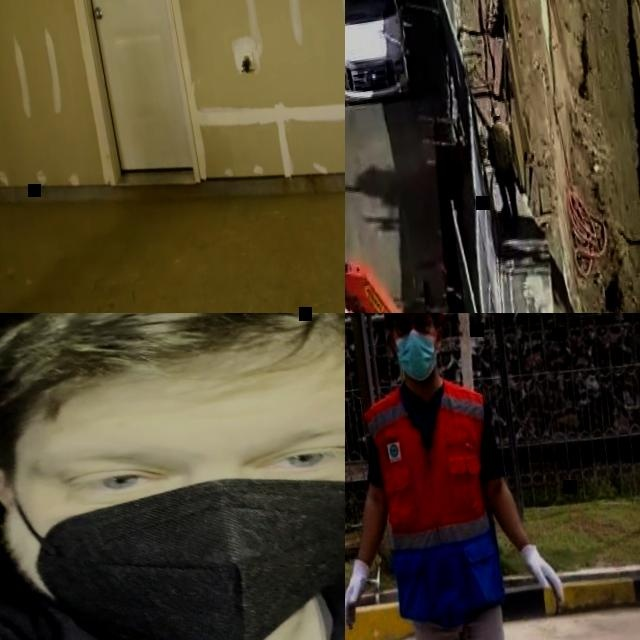Hardhat: (489, 105, 503, 117)
Mask: (1, 424, 345, 640), (391, 324, 445, 385)
NO-Hardhat: (0, 313, 345, 447)
NO-Safety Vest: (0, 528, 345, 640)
Person: (0, 313, 345, 640), (345, 313, 606, 640), (481, 103, 523, 221)
Safety Vest: (360, 370, 508, 558)
machinery: (345, 244, 457, 313)
vehicle: (345, 0, 421, 109)
